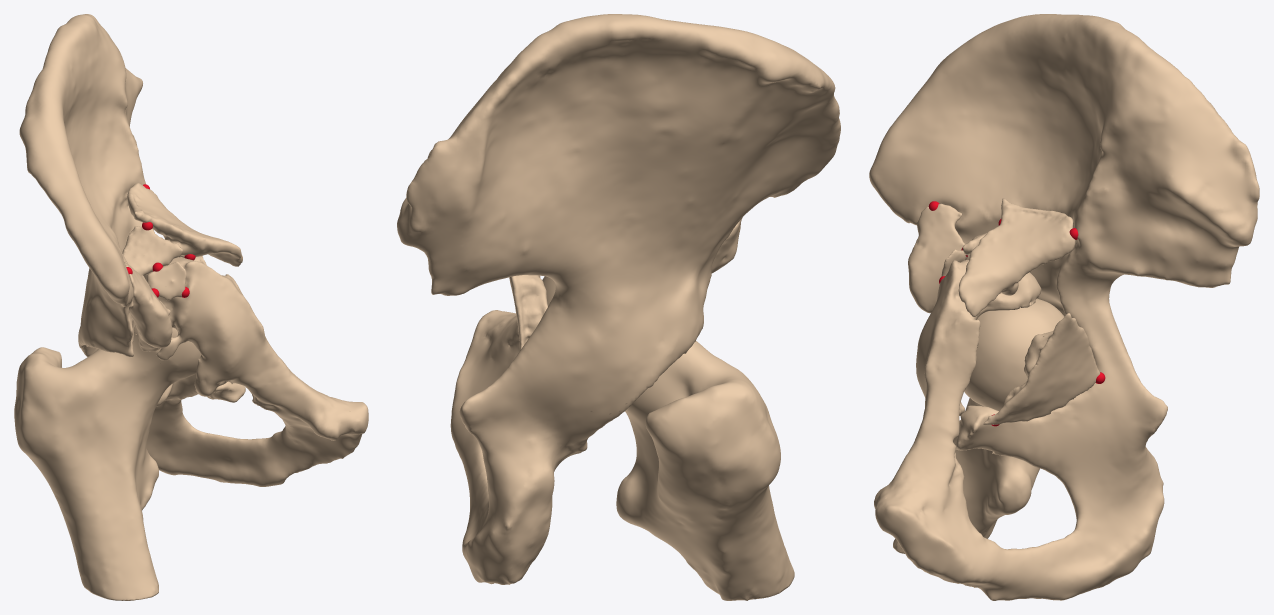
The picture shows the model from 3 angles, left to right: view 1: azimuth 30°, elevation 25°; view 2: azimuth 150°, elevation 25°; view 3: azimuth 270°, elevation 25°; orthographic projection. The views are drawn at different scales.
Parts seen in each view (by area): view 1: Hipbone combined_4, Femur_2; view 2: Hipbone combined_4, Femur_2; view 3: Hipbone combined_4, Femur_2.
Part boxes in pixels (<box>): Hipbone combined_4: <box>19,14,368,486</box>; Femur_2: <box>14,325,200,600</box>; Hipbone combined_4: <box>397,14,840,584</box>; Femur_2: <box>542,276,794,600</box>; Hipbone combined_4: <box>869,14,1259,600</box>; Femur_2: <box>893,298,1064,553</box>.
Size of the model in its own units: 156 by 243 by 161.
